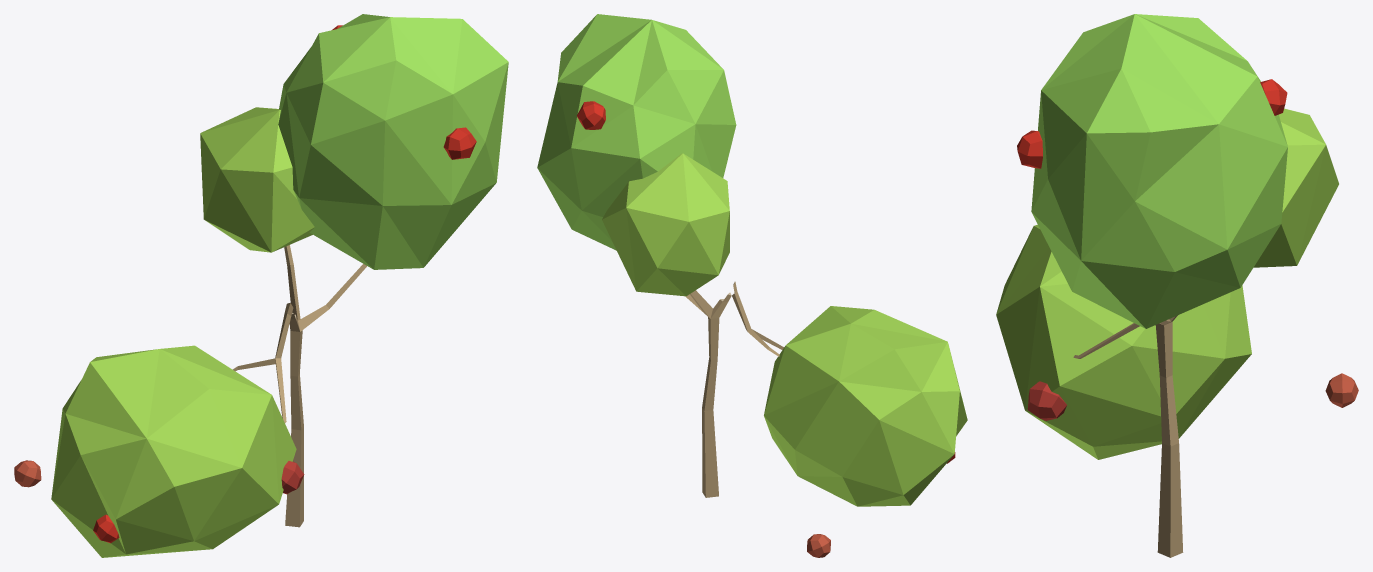
The model's file is Apple_Tree_Apples_crk_s_02_LOD.fbx.
The picture shows the model from 3 angles, left to right: view 1: azimuth 30°, elevation 25°; view 2: azimuth 150°, elevation 25°; view 3: azimuth 270°, elevation 25°; orthographic projection. The views are drawn at different scales.
Visible parts, largest first — view 1: Apple_Tree_Apples_crk_s_02_LOD0; view 2: Apple_Tree_Apples_crk_s_02_LOD0; view 3: Apple_Tree_Apples_crk_s_02_LOD0.
Part boxes in pixels (x1,y1,x2,y2): Apple_Tree_Apples_crk_s_02_LOD0: [14, 14, 508, 557]; Apple_Tree_Apples_crk_s_02_LOD0: [537, 14, 967, 557]; Apple_Tree_Apples_crk_s_02_LOD0: [996, 14, 1358, 557].
Size of what is drawn, in the model's own units: 279 by 304 by 171.
